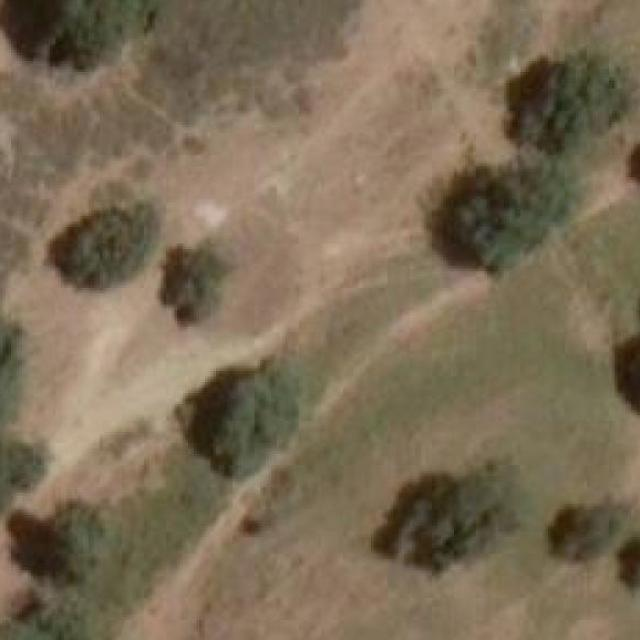Tree: (194, 354, 321, 485), (502, 53, 626, 156), (385, 468, 507, 568), (432, 166, 542, 264), (2, 0, 155, 66), (55, 201, 158, 288), (42, 498, 114, 585), (169, 246, 236, 310), (557, 498, 623, 559), (0, 429, 44, 512), (0, 312, 24, 426), (614, 349, 640, 421), (620, 526, 640, 585)
